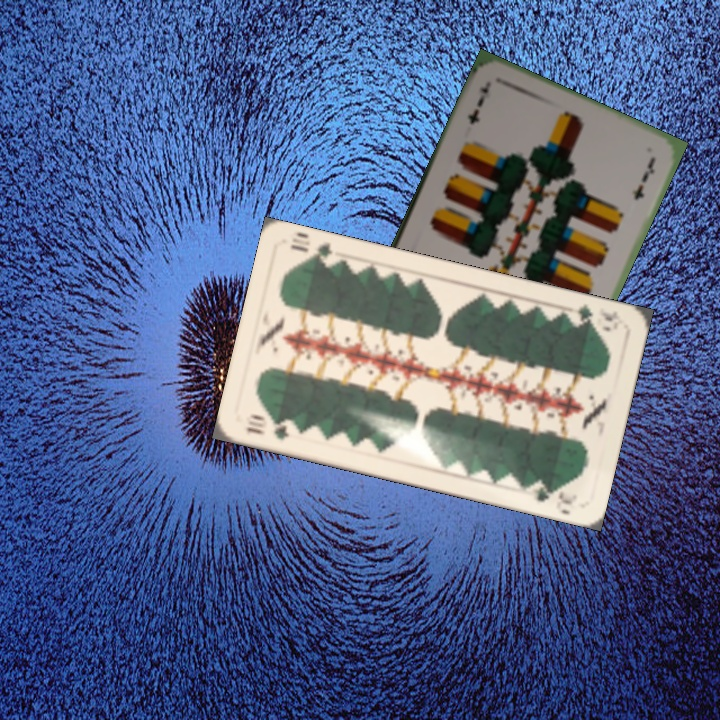E7: (463, 79, 493, 128)
G10: (564, 300, 621, 330), (242, 411, 292, 443)
